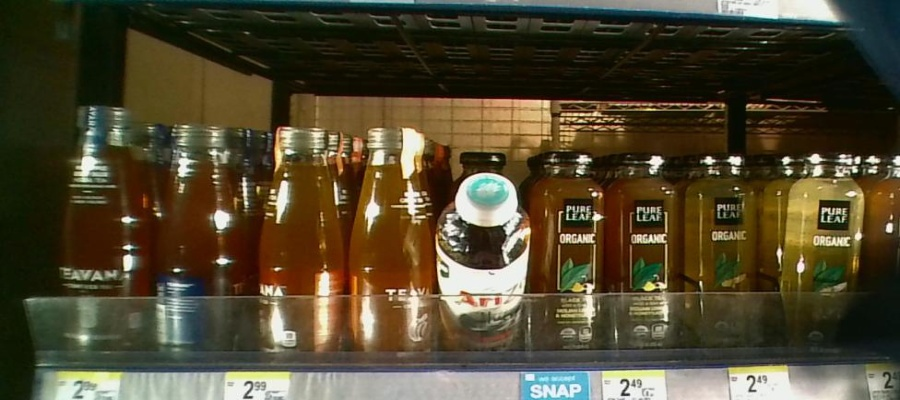bottle: (57, 101, 152, 362), (155, 118, 245, 368), (259, 117, 346, 375), (351, 127, 434, 368), (437, 169, 530, 355), (684, 146, 759, 352), (787, 149, 862, 355), (608, 146, 681, 357), (533, 152, 605, 357), (867, 148, 900, 359)
